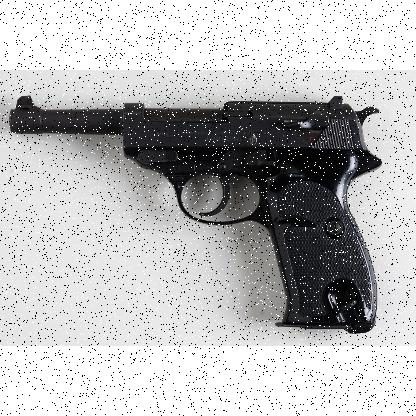gun: (9, 93, 377, 334)
